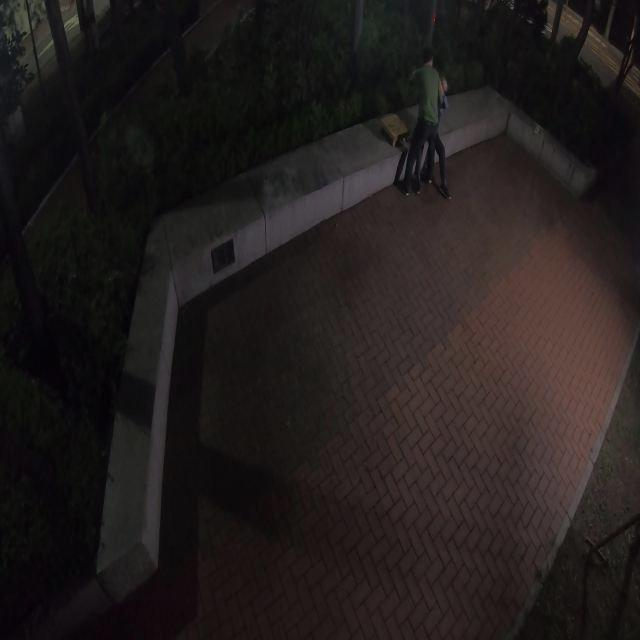fight: (399, 49, 450, 200)
